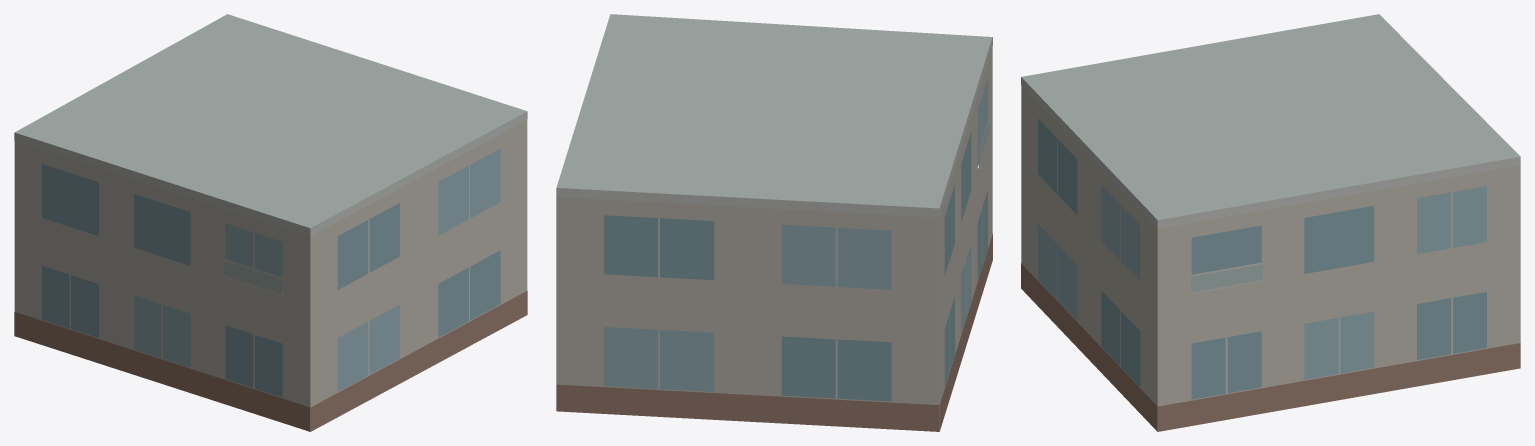
The model's file is survey-upis-32992964.glb.
3 renders of one model, left to right at view 1: azimuth 30°, elevation 25°; view 2: azimuth 150°, elevation 25°; view 3: azimuth 270°, elevation 25°, orthographic. The views are drawn at different scales.
Parts seen in each view (by area): view 1: survey-upis-32992964.tmp; view 2: survey-upis-32992964.tmp; view 3: survey-upis-32992964.tmp.
Boxes of the visible parts, x1,y1,x2,y2 form: survey-upis-32992964.tmp: (14,14,527,431); survey-upis-32992964.tmp: (556,14,992,431); survey-upis-32992964.tmp: (1021,14,1520,431).
Bounding box in the file's own units: 12.75 × 6.1 × 13.06.
